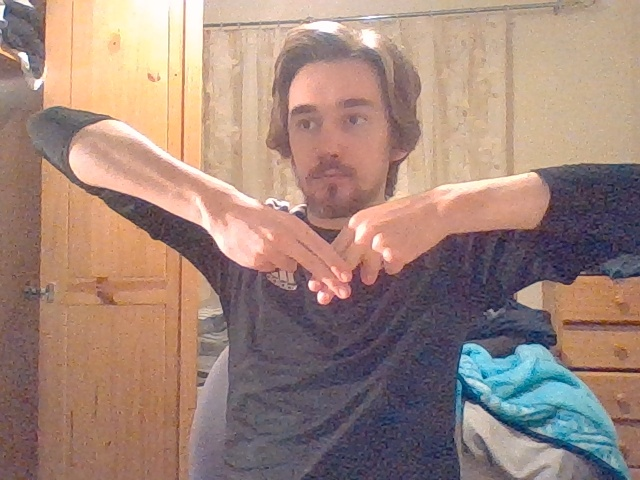father: (286, 211, 388, 307)
